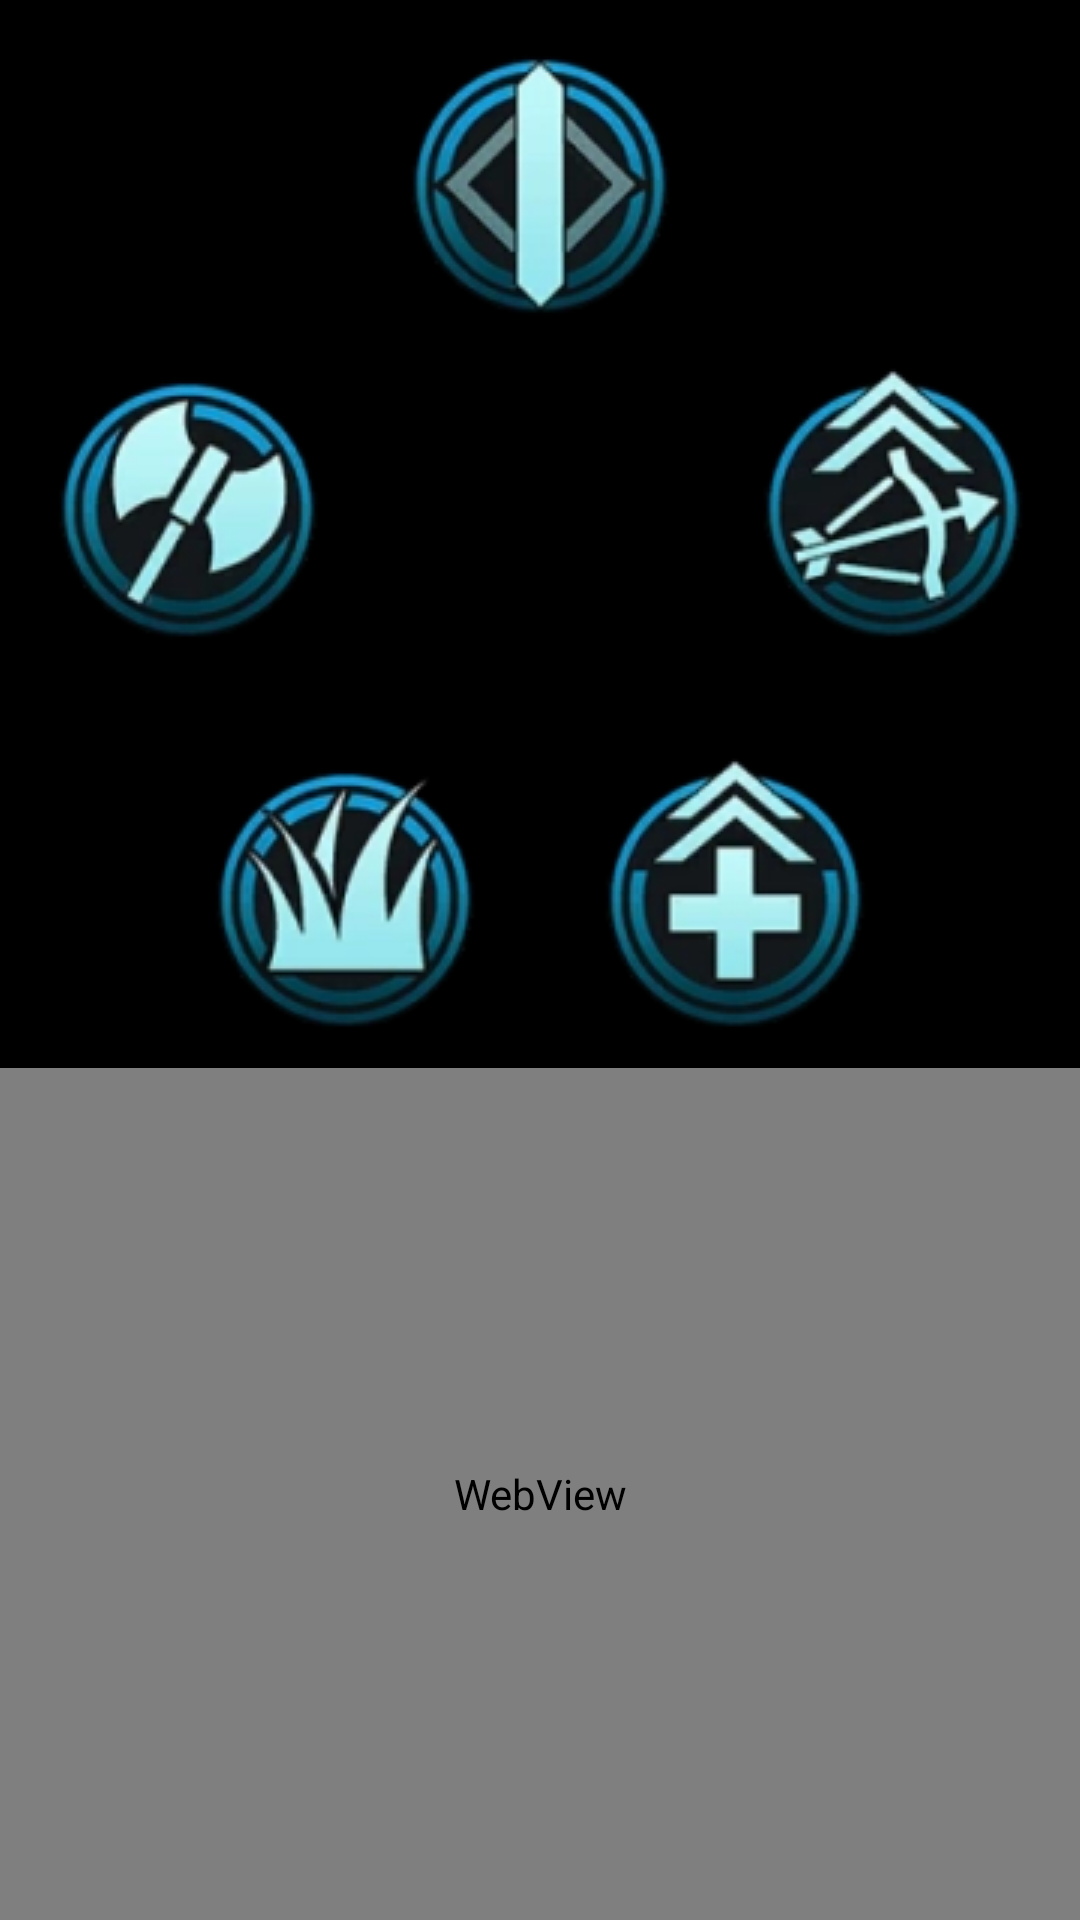

Icons on this 1080x1920 Android screen, each with its box as bbox(x1, y1, x2, y2):
carry: bbox(767, 371, 1020, 635)
jungle: bbox(219, 773, 472, 1025)
mid: bbox(414, 59, 667, 311)
solo: bbox(62, 383, 315, 635)
support: bbox(609, 761, 862, 1025)
